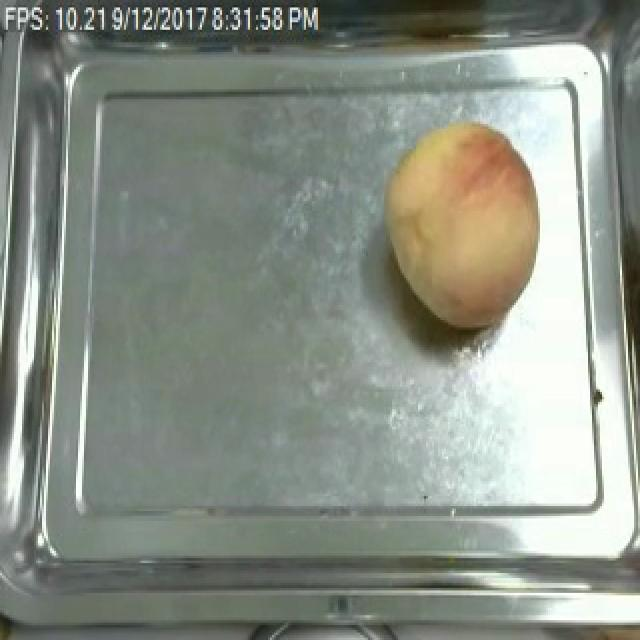Fruit: (374, 112, 548, 335)
